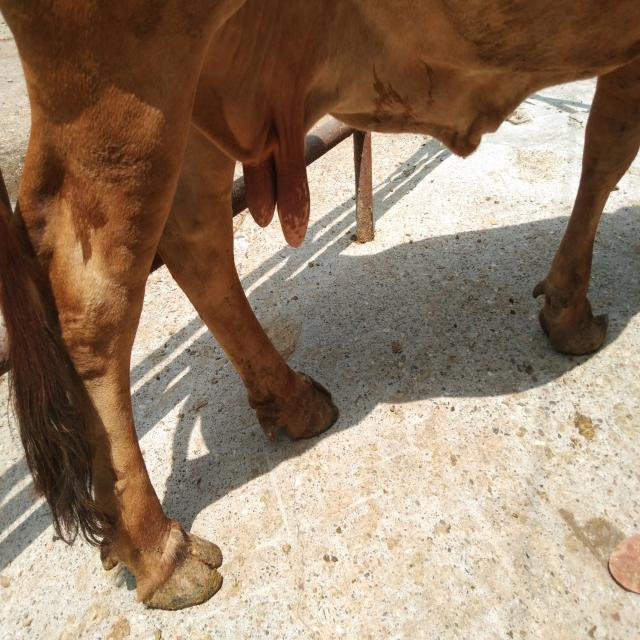Hoof: (135, 519, 223, 611), (254, 370, 339, 442), (532, 277, 609, 356)
